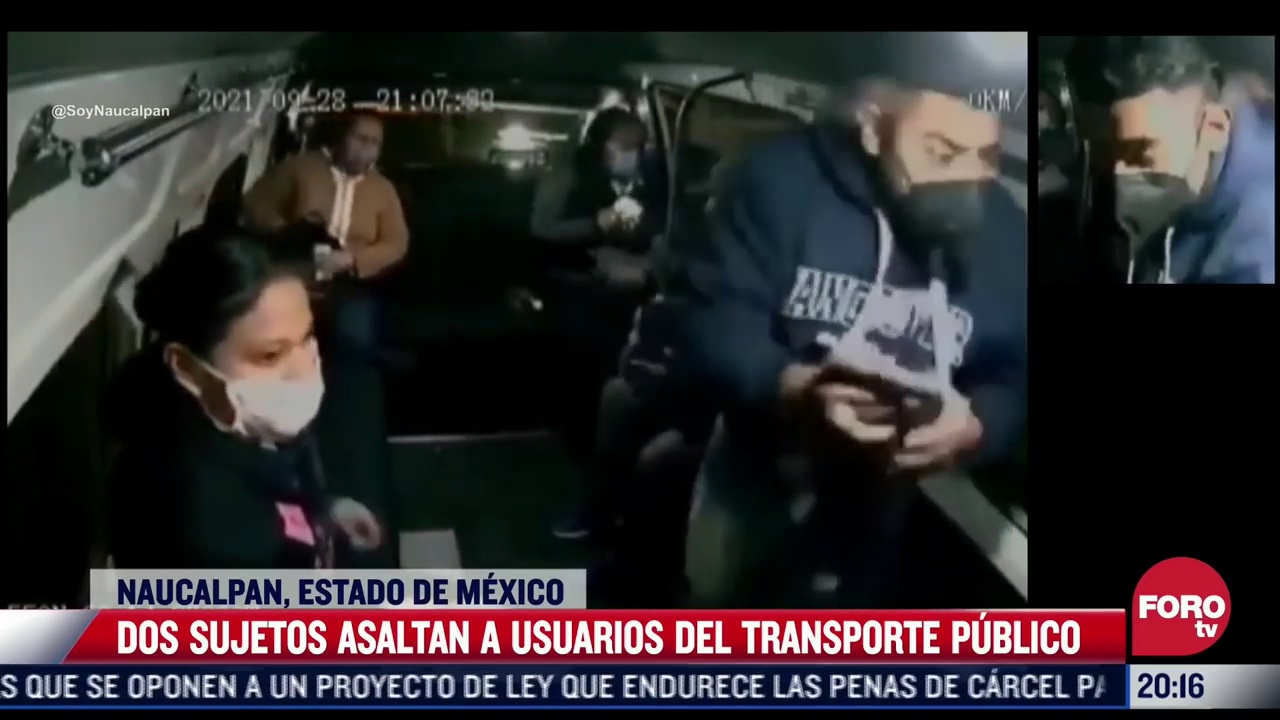pistol: (813, 358, 947, 429)
